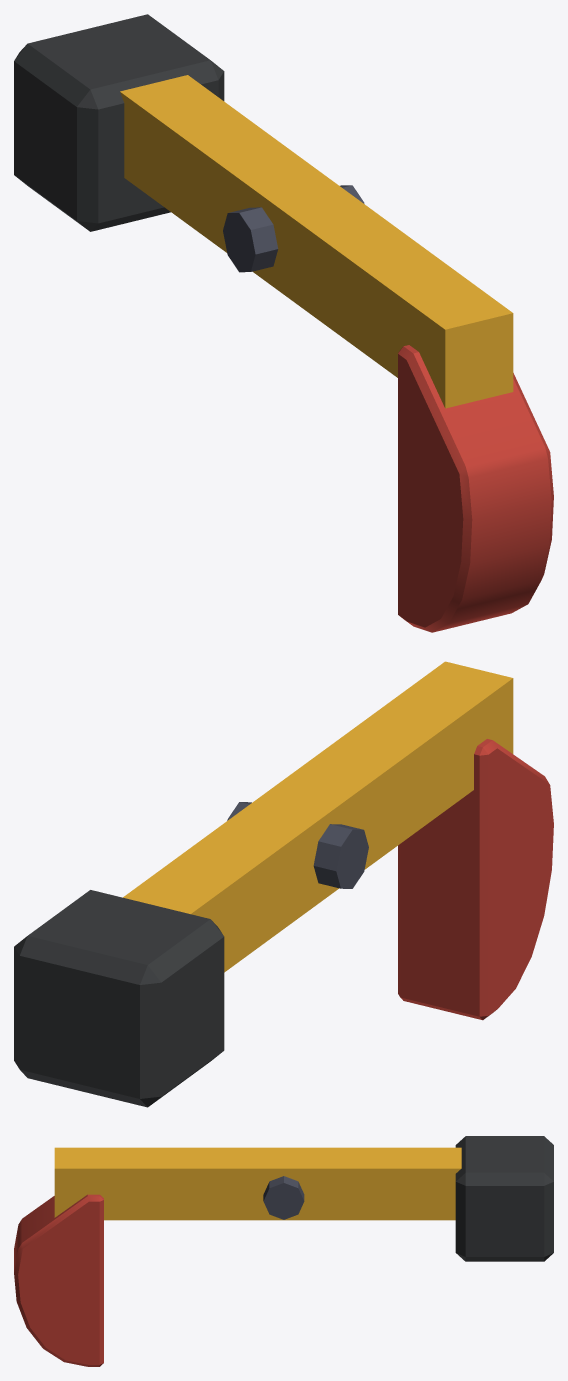
The model's file is oil-refinery.pumpjack.glb.
3 renders of one model, top to bottom at view 1: azimuth 30°, elevation 25°; view 2: azimuth 150°, elevation 25°; view 3: azimuth 270°, elevation 25°, orthographic. The views are drawn at different scales.
Visible parts, largest first — view 1: model; view 2: model; view 3: model.
Boxes of the visible parts, x1,y1,x2,y2 form: model: [14, 14, 553, 632]; model: [14, 661, 553, 1107]; model: [14, 1136, 553, 1366].
Bounding box in the file's own units: 0.13 × 0.27 × 0.6599.
1 material, 1 textured.
